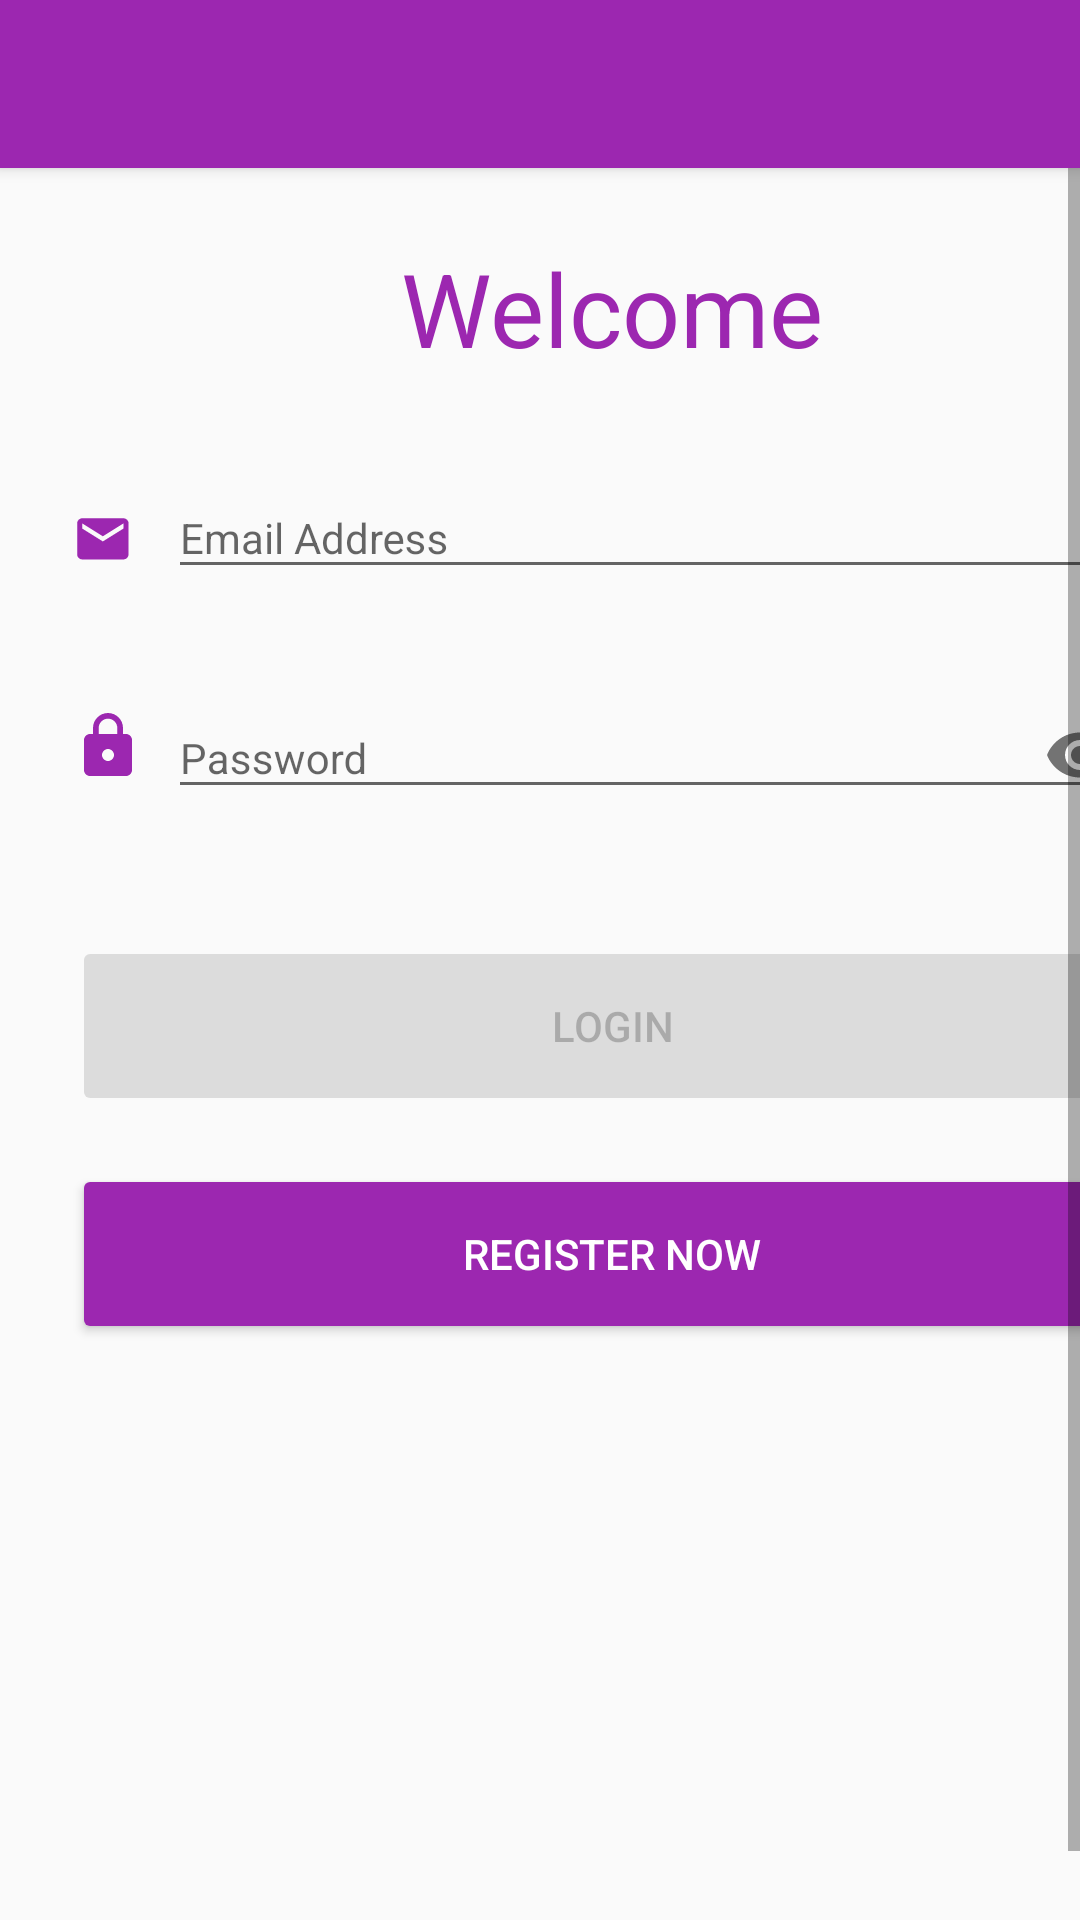

Named icons in this screenshot (1080w x 1920h) and their bounding boxes, (x1, y1, x2, y2):
all email: (77, 518, 129, 560)
all lock: (84, 713, 132, 776)
